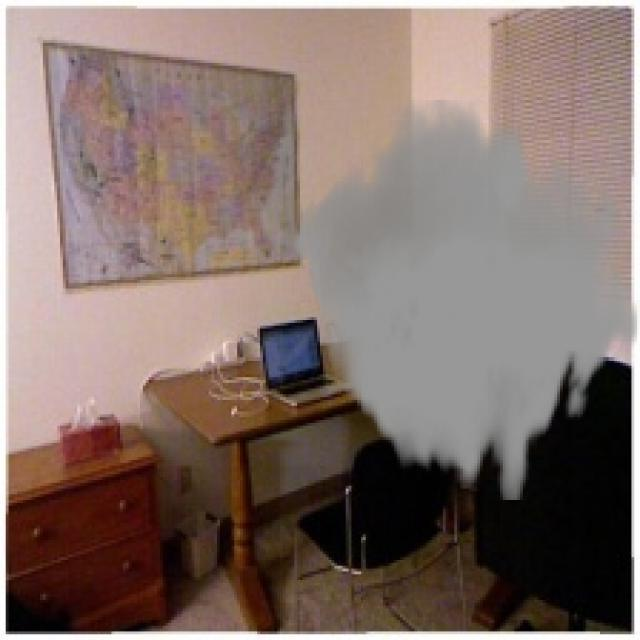Smoke: (292, 100, 637, 503)
